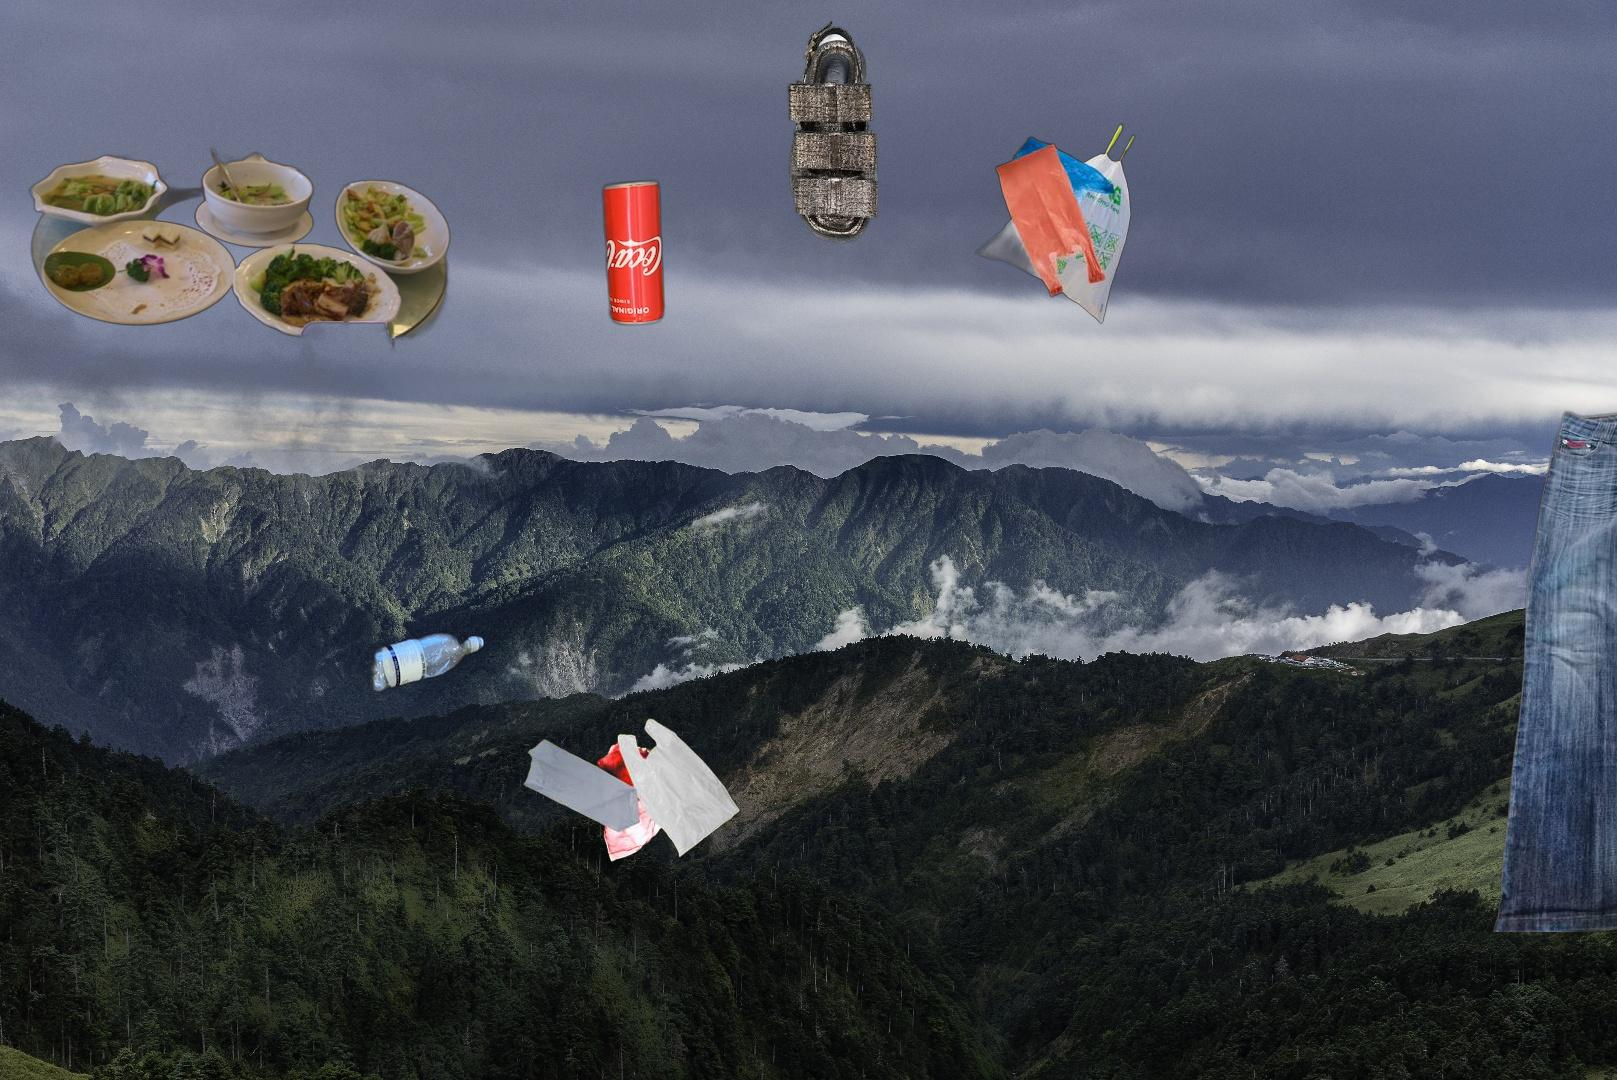biological: (23, 139, 467, 379)
clothes: (1490, 399, 1617, 932)
metal-cans: (598, 175, 669, 331)
plastic-bag: (974, 121, 1138, 327), (520, 716, 743, 863)
plastic-bottles: (362, 629, 488, 697)
shoes: (785, 18, 881, 246)
trashbox-cardboard: (1145, 1029, 1617, 1080)
